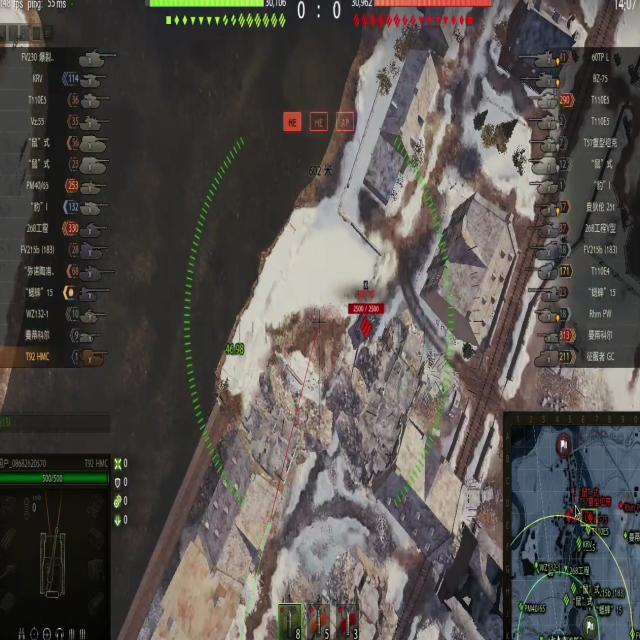tank: (345, 302, 383, 352)
